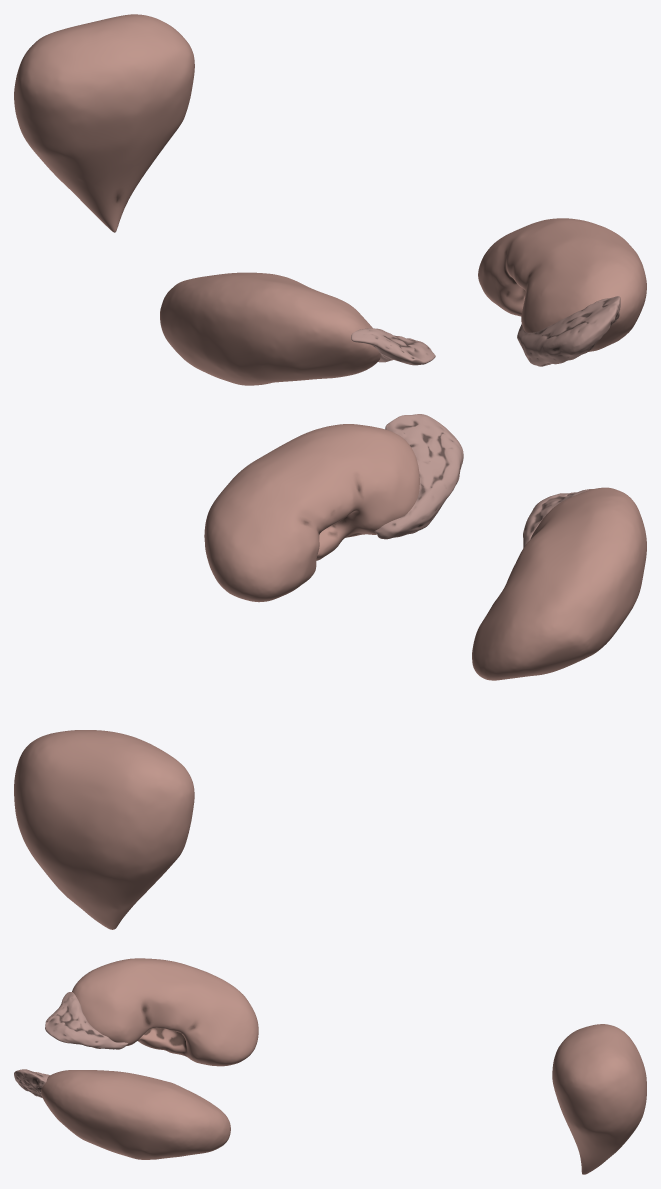
File: kidneys.43dba8294e.glb
3 renders of one model, top to bottom at view 1: azimuth 30°, elevation 25°; view 2: azimuth 150°, elevation 25°; view 3: azimuth 270°, elevation 25°, orthographic. The views are drawn at different scales.
Visible parts, largest first — view 1: FMA15900, FMA7204, FMA7205, FMA15630, FMA15629; view 2: FMA15900, FMA7205, FMA7204, FMA15630, FMA15629; view 3: FMA7204, FMA7205, FMA15900, FMA15629, FMA15630.
Part boxes in pixels (x1=…): FMA15900: x1=14, y1=14, x2=194, y2=232; FMA7204: x1=160, y1=272, x2=380, y2=385; FMA7205: x1=478, y1=218, x2=646, y2=351; FMA15630: x1=517, y1=296, x2=620, y2=366; FMA15629: x1=351, y1=328, x2=435, y2=365; FMA15900: x1=14, y1=730, x2=194, y2=929; FMA7205: x1=204, y1=424, x2=419, y2=602; FMA7204: x1=472, y1=487, x2=646, y2=680; FMA15630: x1=374, y1=414, x2=463, y2=539; FMA15629: x1=523, y1=489, x2=592, y2=547; FMA7204: x1=72, y1=958, x2=258, y2=1066; FMA7205: x1=41, y1=1070, x2=230, y2=1159; FMA15900: x1=552, y1=1024, x2=646, y2=1174; FMA15629: x1=45, y1=992, x2=128, y2=1049; FMA15630: x1=14, y1=1069, x2=49, y2=1097.
Size of the model in its own units: 180 by 93.26 by 342.
